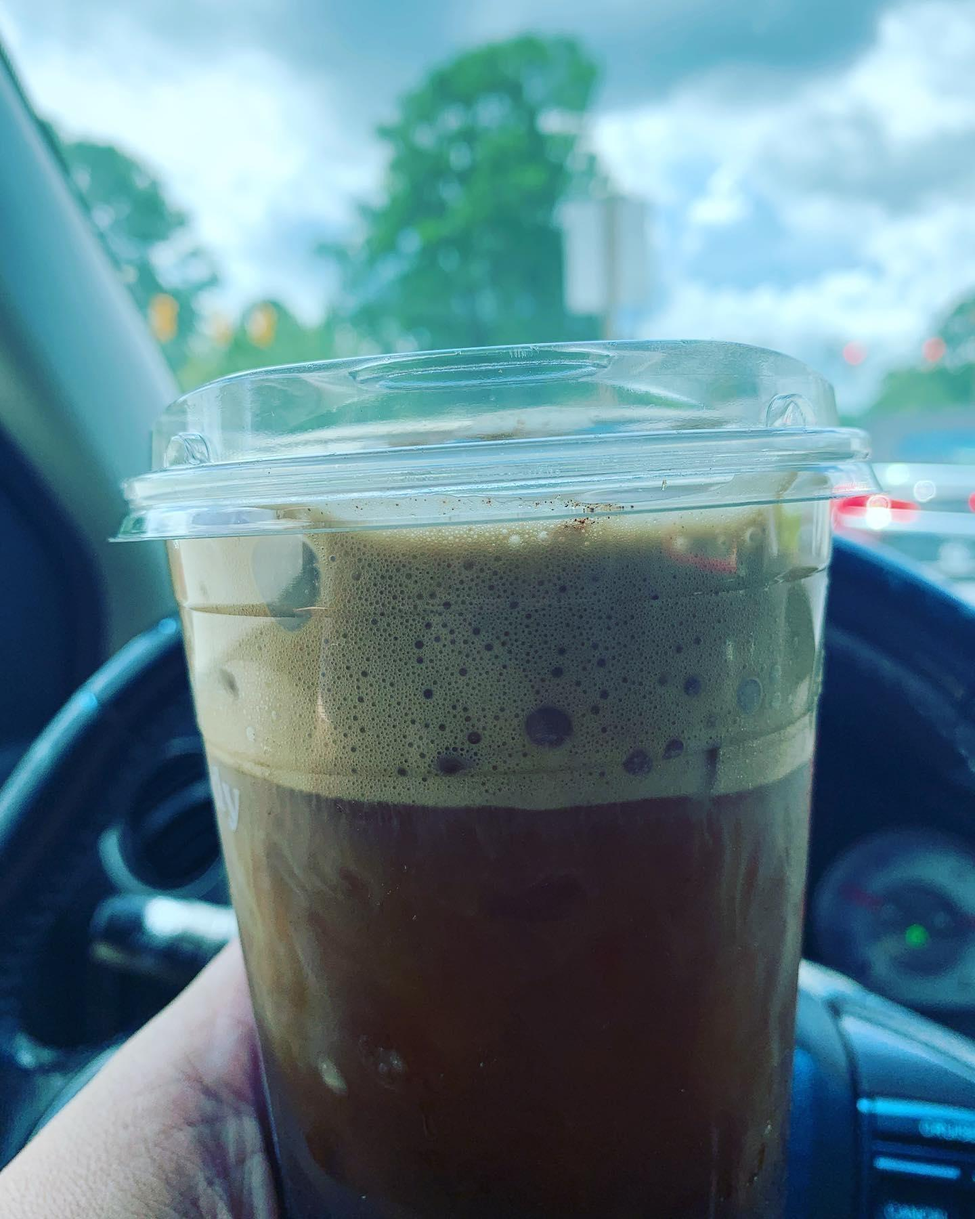cup-disposable: (105, 321, 875, 1219)
